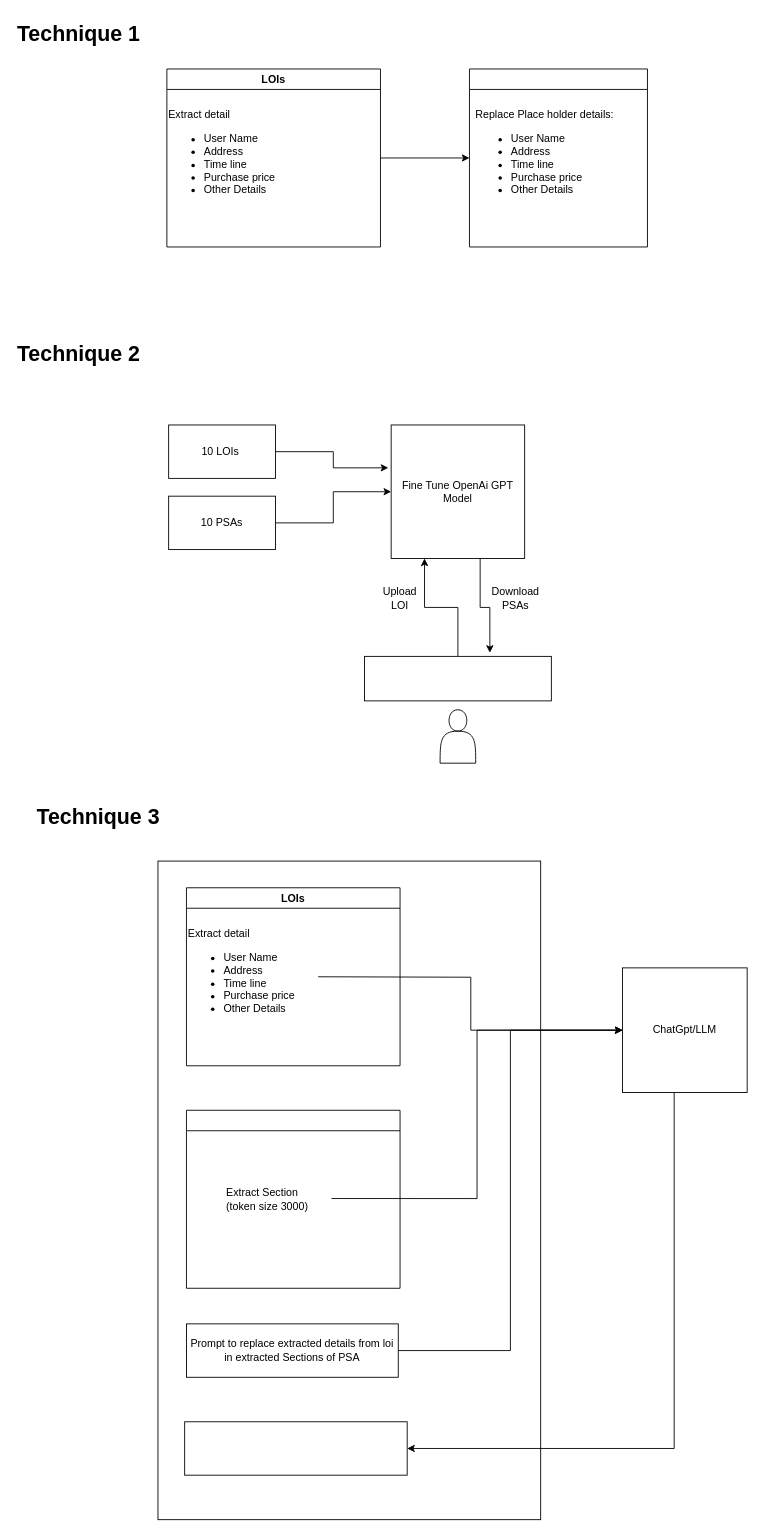
This 763x1535 diagram has some shape labels left out. The box of each missing label's shape, as (x1, y1, x2, y2) in pixels:
Get updated section and replace in PSA file and go for next section: (184, 1421, 407, 1475)
Open Ai Play ground: (364, 655, 551, 701)
PSA File: (186, 1109, 400, 1288)
PSAs: (469, 68, 647, 247)
